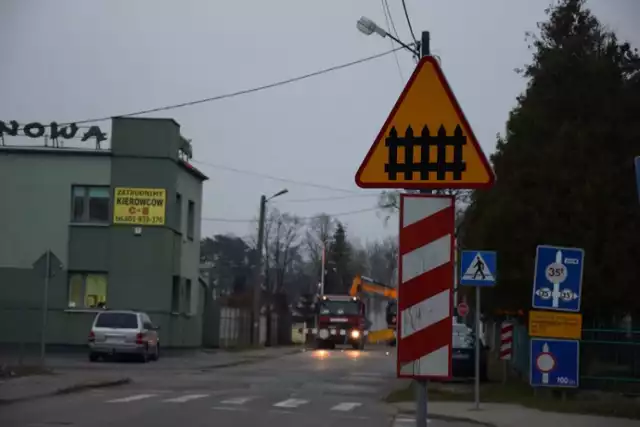a9: (381, 123, 471, 183)
